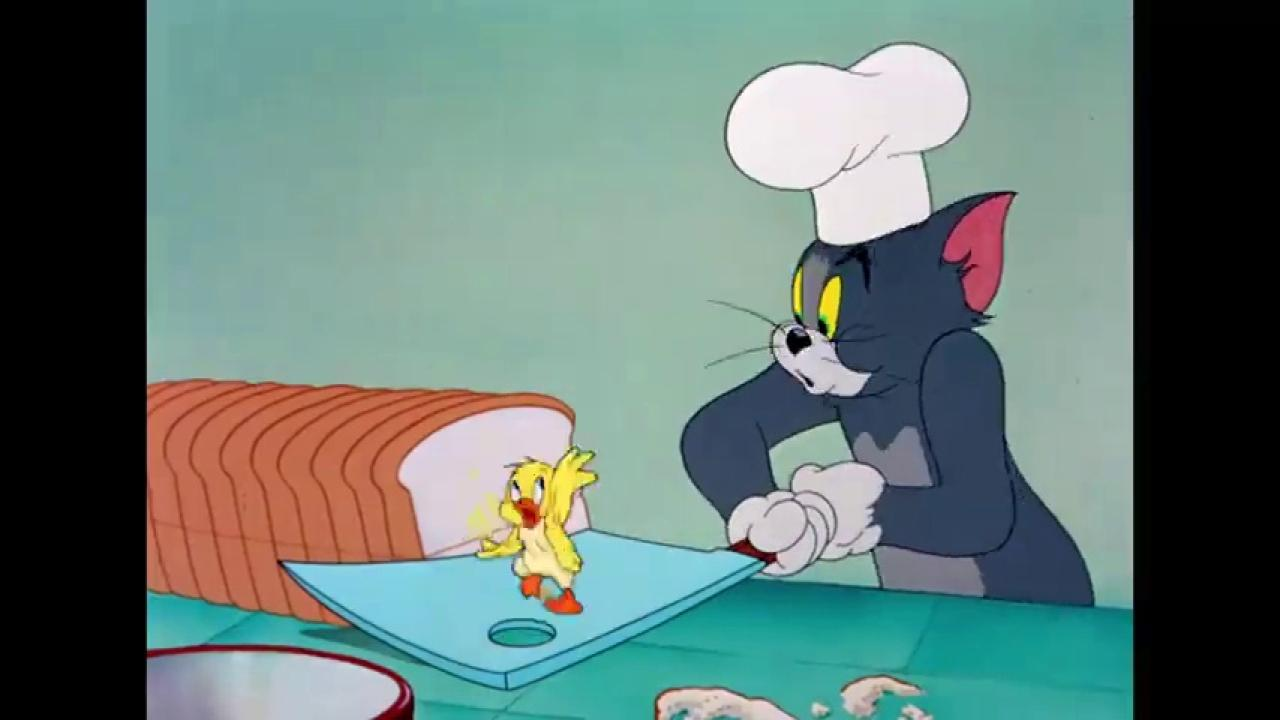Tom: (676, 189, 1095, 608)
